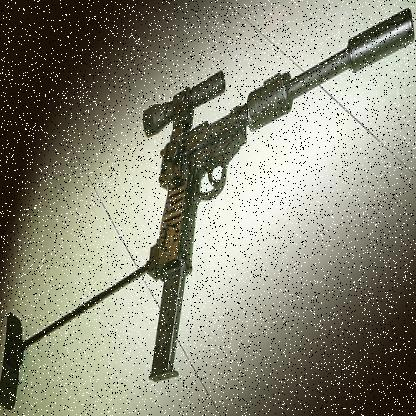pistol: (153, 73, 291, 275)
